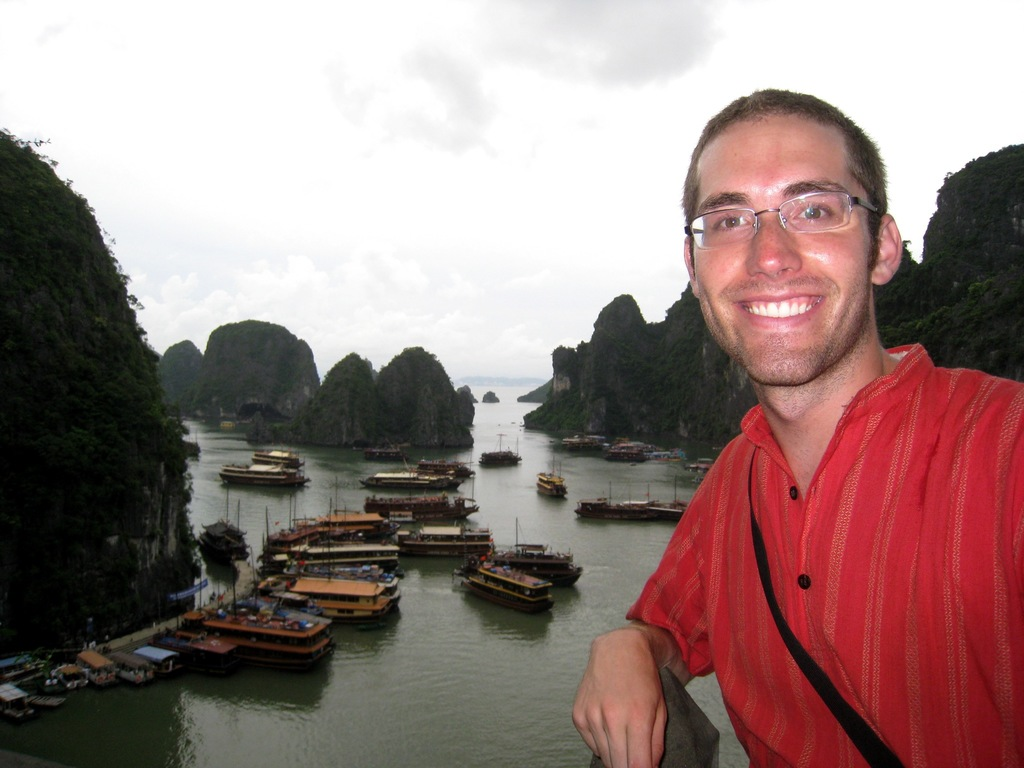boat: (258, 562, 411, 635), (451, 555, 559, 625), (490, 539, 590, 594), (360, 487, 488, 525), (396, 520, 502, 564), (572, 490, 689, 528), (215, 461, 316, 493), (475, 433, 536, 480), (531, 463, 572, 511), (250, 444, 307, 471)
